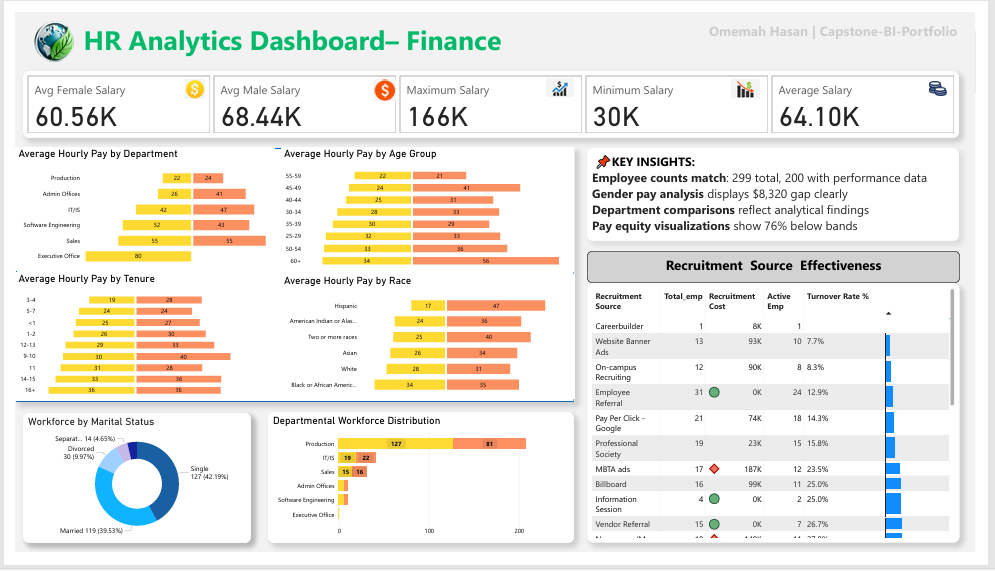

The page's visual inventory and layout, read from the dashboard file:
{"tool":"powerbi","page":{"name":"Finance","canvas":[1920,1080],"ordinal":1},"visuals":[{"type":"shape","box":[0,270.4,1116.7,507.4],"z":0},{"type":"barChart","title":"Average Hourly Pay by Department","fields":{"Category":["master_table3.Department"],"Y":["Master_Table_1.Avg_Pay_F","Master_Table_1.Avg_Pay_M"]},"box":[0,269.4,587.8,246.9],"z":1000},{"type":"barChart","title":"Average Hourly Pay by Race","fields":{"Category":["Master_Table_1.RaceDesc"],"Y":["Master_Table_1.Avg_Pay_F","Master_Table_1.Avg_Pay_M"]},"box":[0,518.4,587.8,249],"z":2000},{"type":"barChart","title":"Average Hourly Pay by Age Group","fields":{"Category":["Master_Table_1.Age group"],"Y":["Master_Table_1.Avg_Pay_F","Master_Table_1.Avg_Pay_M"]},"box":[587.8,269.4,530.6,251],"z":3000},{"type":"barChart","title":"Average Hourly Pay by Tenure","fields":{"Category":["Master_Table_1.Tenure years"],"Y":["Master_Table_1.Avg_Pay_F","Master_Table_1.Avg_Pay_M"]},"box":[587.8,520.4,530.6,257.1],"z":4000},{"type":"tableEx","fields":{"Values":["master_table2.Emp_Source","Master_Table_1.Total_emp","Sum(Master_Table_1.total_recruitment_cost_by_source)","Master_Table_1.Active Employees","Master_Table_1.Turnover Rate %","Master_Table_1.Turnover_Rate %"]},"box":[1142.6,540.7,744.4,518.5],"z":5000},{"type":"donutChart","title":"Employee Distribution by Marital Status","fields":{"Category":["Master_Table_1.Marital_status"],"Y":["Master_Table_1.Total_emp"]},"box":[14.8,800,455.6,259.3],"z":6000},{"type":"cardVisual","fields":{"Data":["Master_Table_1.Avg Female Salary","Master_Table_1.Avg Male Salary","Max(Master_Table_1.Year_Sal)","Master_Table_1.Minimum Salary","Master_Table_1.Average Salary"]},"box":[14.3,102,1873.5,151],"z":7000},{"type":"barChart","title":"Departmental Workforce Distribution","fields":{"Category":["master_table3.Department"],"Y":["Master_Table_1.Total_emp"],"Series":["Master_Table_1.Sex"]},"box":[504,798,612,262],"z":8000},{"type":"textbox","box":[130,12,1050,88],"z":9000},{"type":"image","box":[1432.7,110.2,65.3,51],"z":10000},{"type":"image","box":[1053.1,112.2,65.3,49],"z":11000},{"type":"image","box":[344.9,102,46.9,63.3],"z":12000},{"type":"image","box":[710.2,108.2,51,57.1],"z":13000},{"type":"donutChart","title":"Workforce by Marital Status","fields":{"Category":["Master_Table_1.Marital_status"],"Y":["Master_Table_1.Total_emp"]},"box":[14.3,800,469.4,259.2],"z":14000},{"type":"image","box":[0,0,152,116],"z":15000},{"type":"image","box":[1814.3,112.2,57.1,49],"z":16000},{"type":"textbox","box":[1142,476,746,64],"z":17000},{"type":"textbox","box":[1381.5,13,524.1,50],"z":18000},{"type":"textbox","box":[1142,270,744,186],"z":19000}]}

Visuals, with their boxes in screenshot pixels (x1, y1, x2, y2), scaled from the page's 1920x1080 canvas onto the 995x571 screenshot:
shape: box=[0, 143, 579, 411]
"Average Hourly Pay by Department" barChart: box=[0, 142, 305, 273]
"Average Hourly Pay by Race" barChart: box=[0, 274, 305, 406]
"Average Hourly Pay by Age Group" barChart: box=[305, 142, 580, 275]
"Average Hourly Pay by Tenure" barChart: box=[305, 275, 580, 411]
tableEx - master_table2.Emp_Source x Master_Table_1.Total_emp: box=[592, 286, 978, 560]
"Employee Distribution by Marital Status" donutChart: box=[8, 423, 244, 560]
cardVisual - Master_Table_1.Avg Female Salary x Master_Table_1.Avg Male Salary: box=[7, 54, 978, 134]
"Departmental Workforce Distribution" barChart: box=[261, 422, 578, 560]
textbox: box=[67, 6, 612, 53]
image: box=[742, 58, 776, 85]
image: box=[546, 59, 580, 85]
image: box=[179, 54, 203, 87]
image: box=[368, 57, 394, 87]
"Workforce by Marital Status" donutChart: box=[7, 423, 251, 560]
image: box=[0, 0, 79, 61]
image: box=[940, 59, 970, 85]
textbox: box=[592, 252, 978, 286]
textbox: box=[716, 7, 988, 33]
textbox: box=[592, 143, 977, 241]
